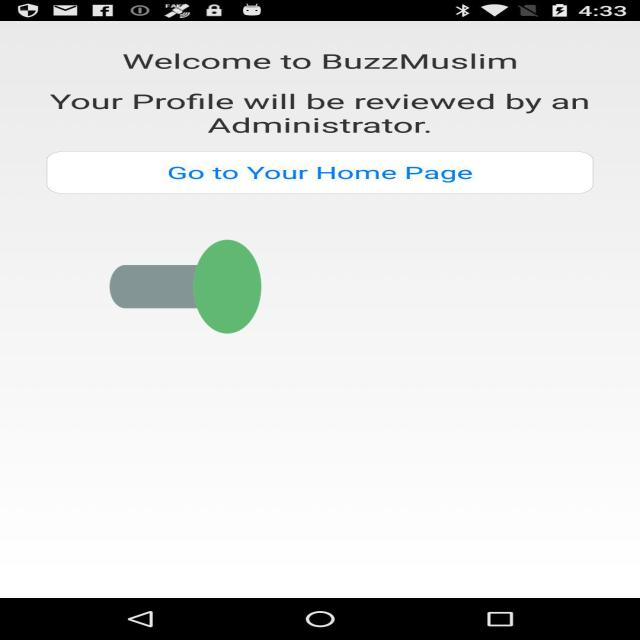social proof: (110, 182, 261, 391)
